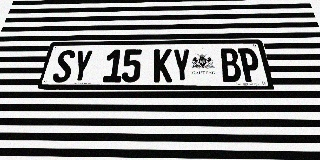1: (102, 49, 124, 82)
5: (121, 49, 142, 82)
B: (219, 48, 242, 82)
K: (153, 49, 172, 82)
P: (237, 48, 262, 82)
S: (51, 50, 76, 82)
Y: (70, 50, 93, 82), (172, 49, 192, 82)
